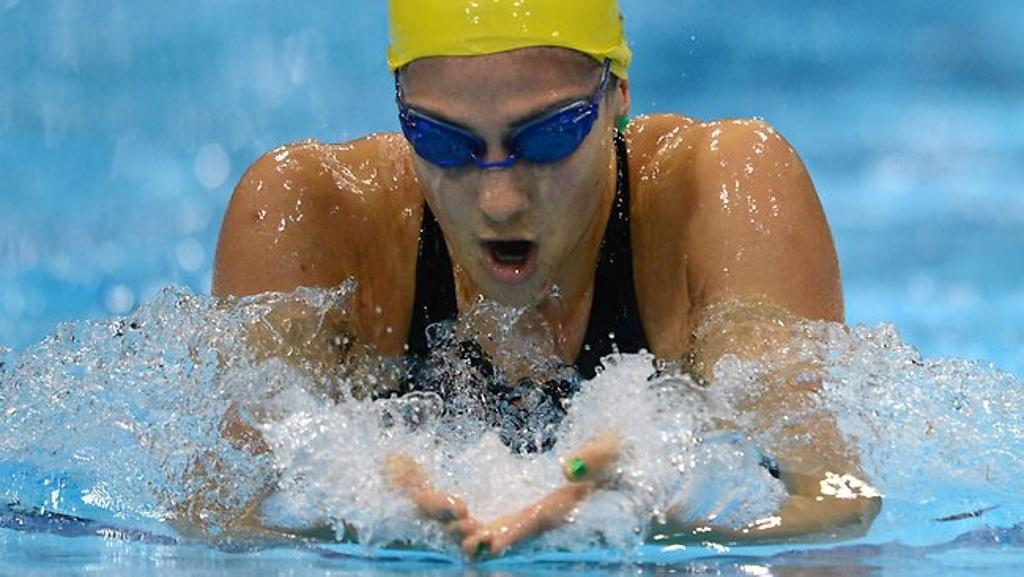face: (410, 56, 612, 306)
